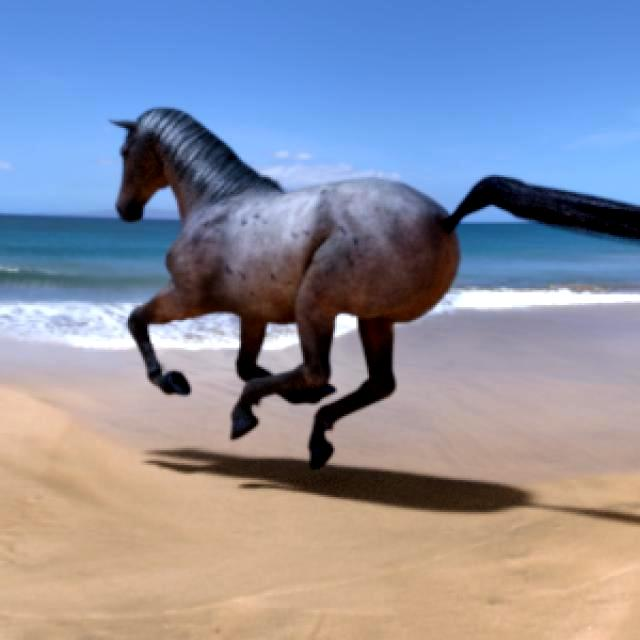horse: (120, 109, 640, 467)
